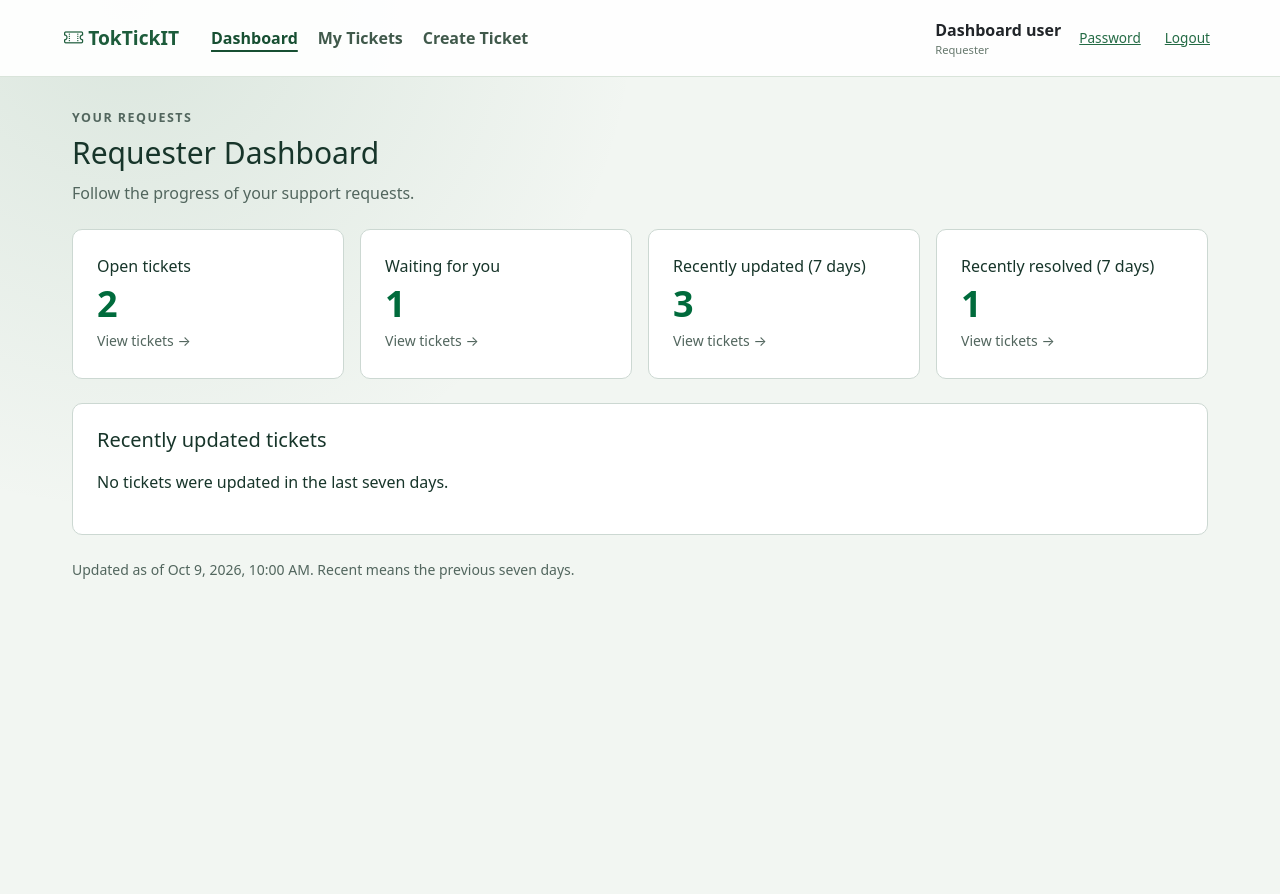
Test case: Dashboard routes reach actual list filter state › Requester open/waiting cards send filters; navigation on the same list path resets the scope
The width and height of the screenshot is (1280, 894).
Click the link "Open tickets 2 View tickets →" at (144,266), box [72,229,344,379]
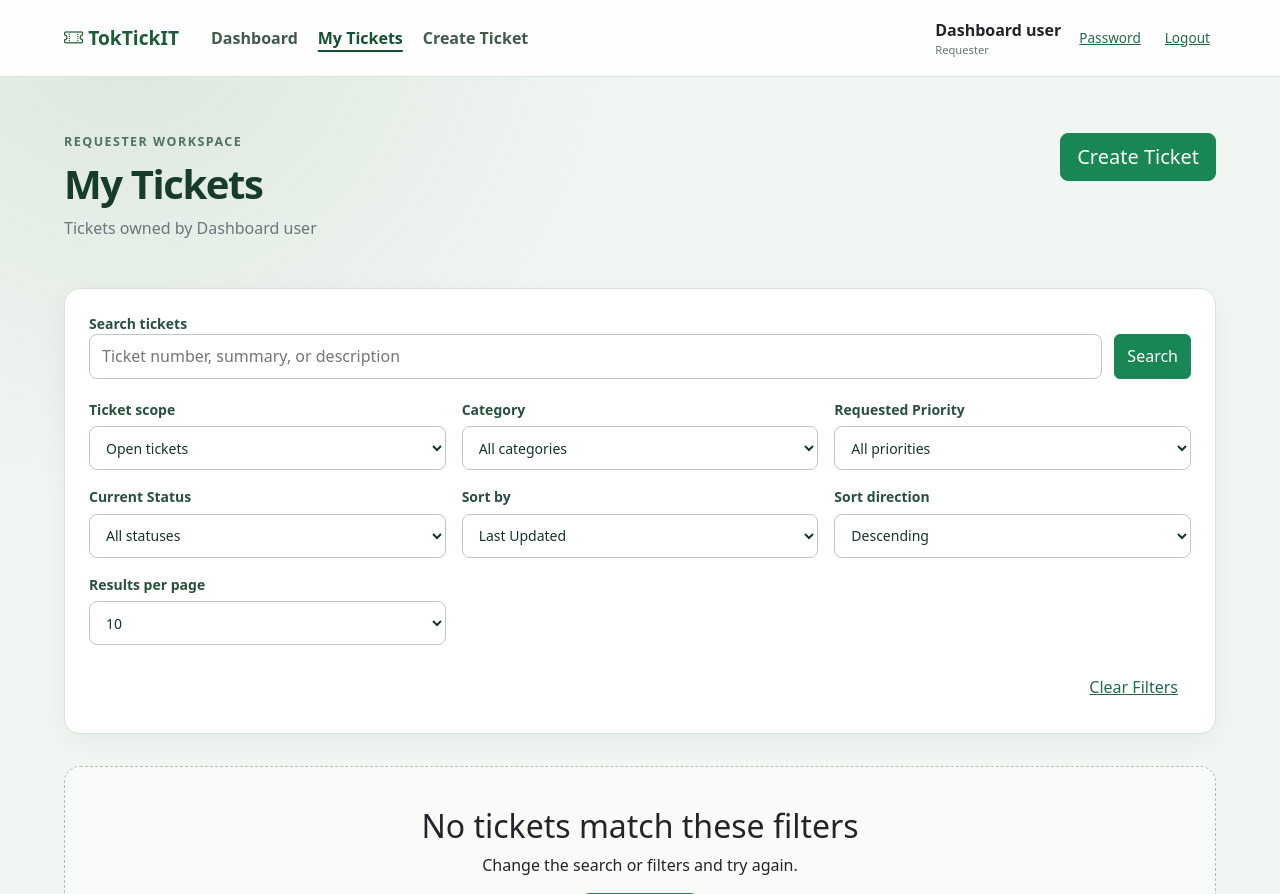
Check: the heading "My Tickets" is shown, box [64,156,262,211]
Check: the dropdown labelled "Ticket scope" shows "Open tickets", box [89,426,446,470]
Click the link "My Tickets" at (360,38), box [318,26,403,50]
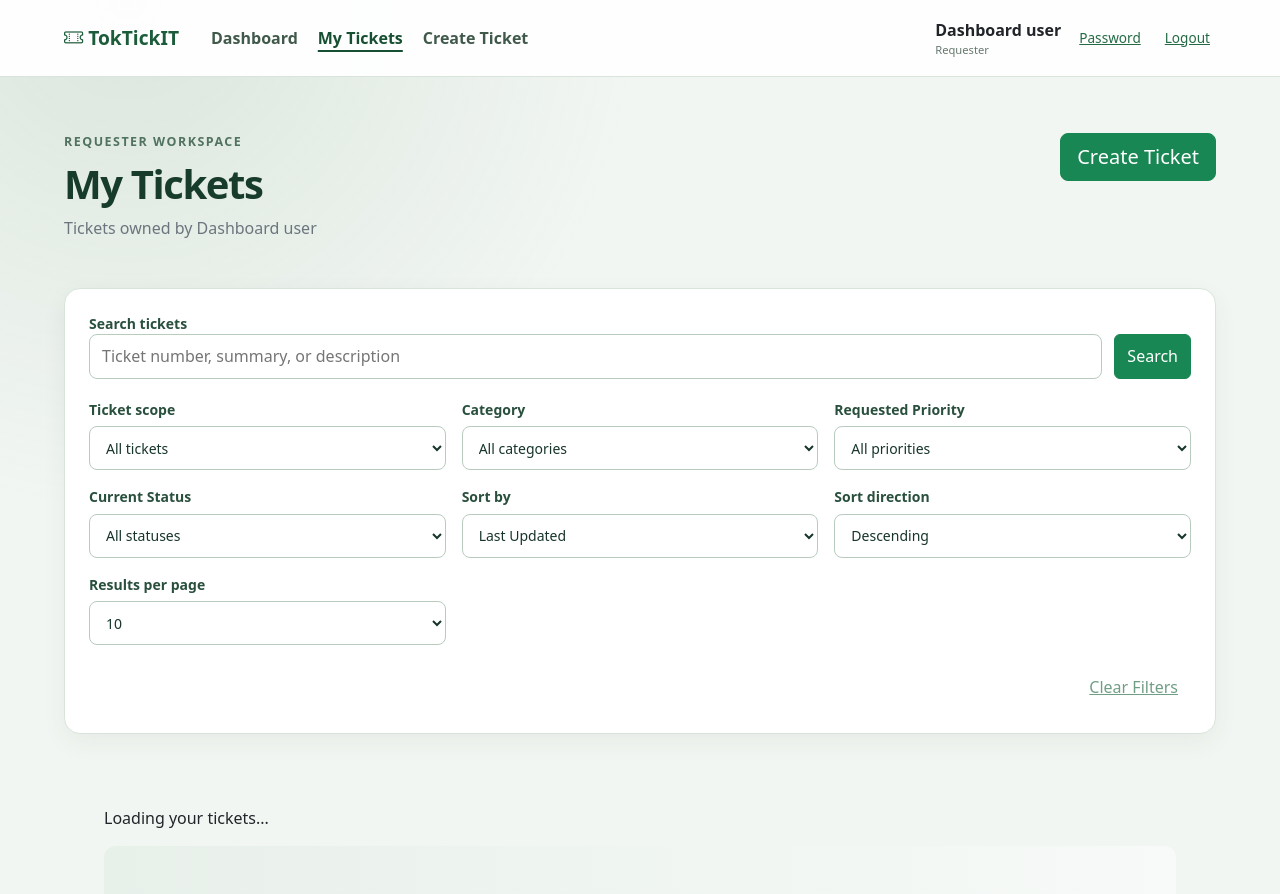
Check: the dropdown labelled "Ticket scope" shows "All tickets", box [89,426,446,470]
Click the link "Dashboard" at (254,38), box [211,26,298,50]
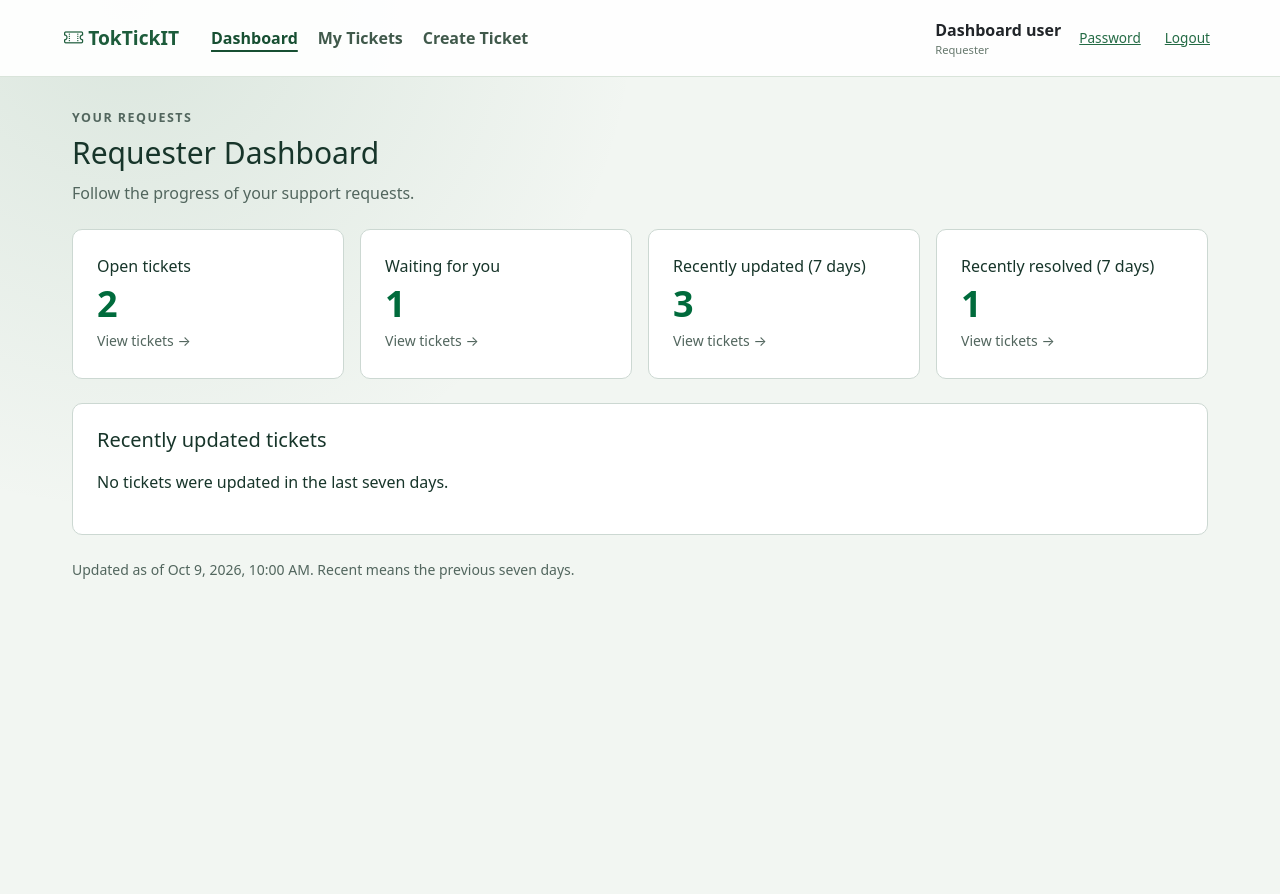
Check: the link "Dashboard" is marked as current, box [211,26,298,50]
Click the link "Waiting for you 1 View tickets →" at (443,266), box [360,229,632,379]
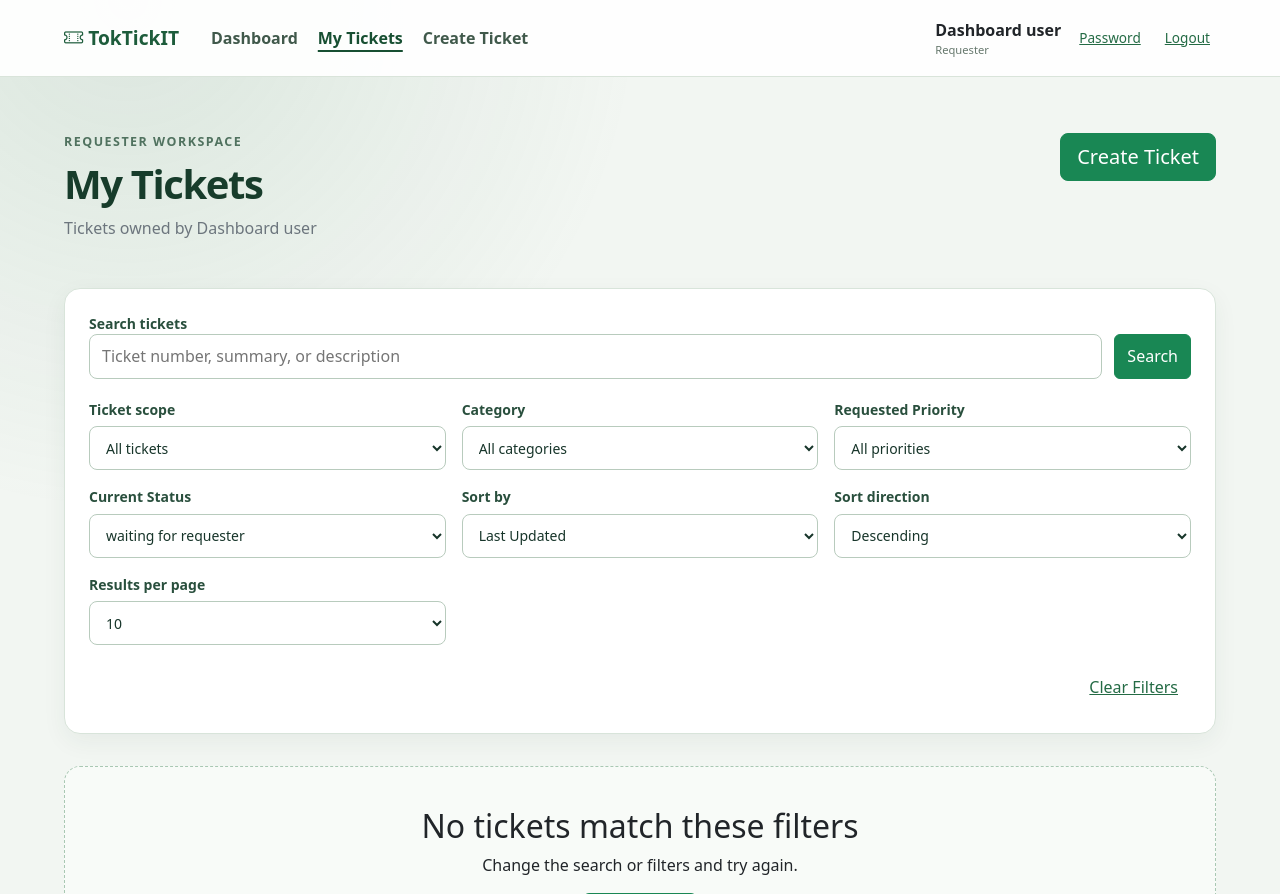
Check: the dropdown labelled "Current Status" shows "waiting for requester", box [89,514,446,558]
